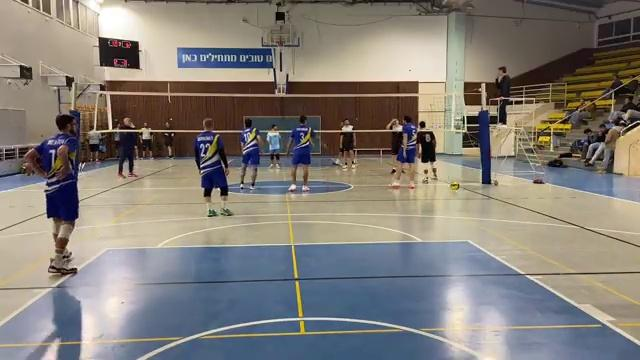ball: (449, 180, 463, 194)
